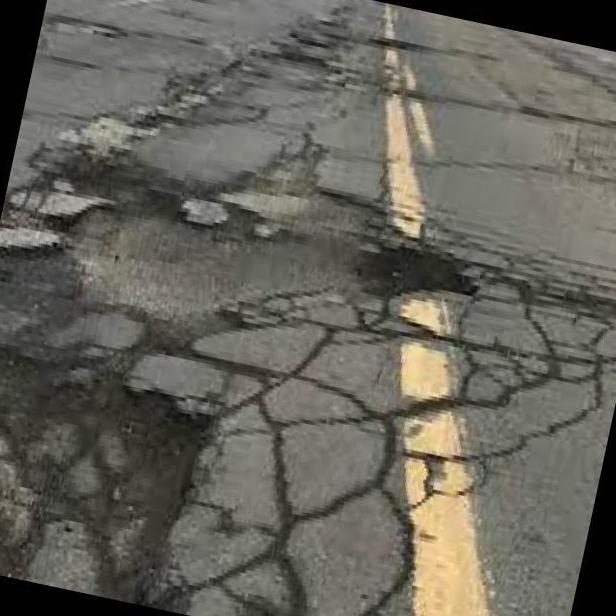pothole: (0, 310, 252, 568), (20, 118, 190, 237), (347, 230, 472, 316), (254, 47, 347, 75), (39, 15, 134, 37)
